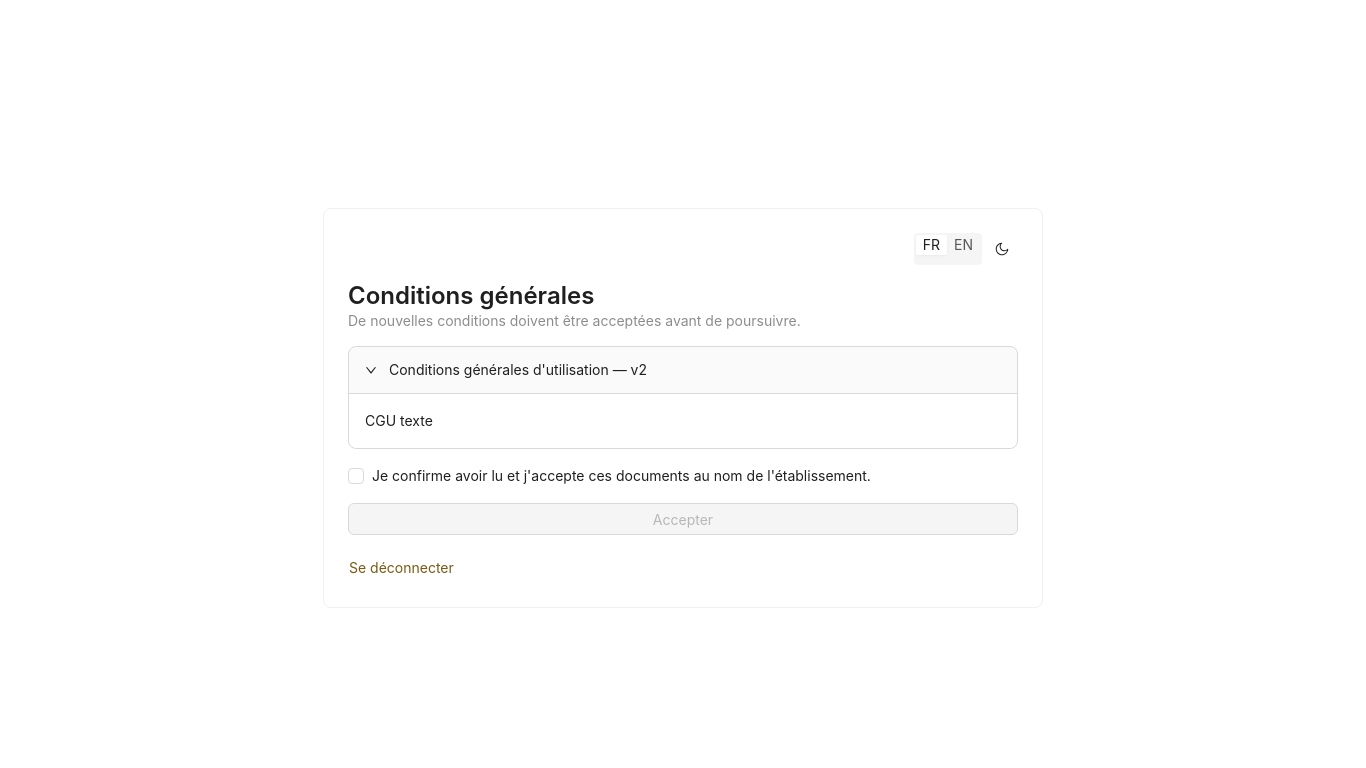
Test: route guards › redirects to /legal while the latest terms are pending, and lets the owner accept
Expected: the heading "Conditions générales" is shown, [348,281,594,310]
Expected: the button "Accepter" is disabled, [348,503,1018,535]
What coordinates should you click on to do the following:
click the checkbox
I would click on:
 (609, 476)
Its box is [348,467,871,484].
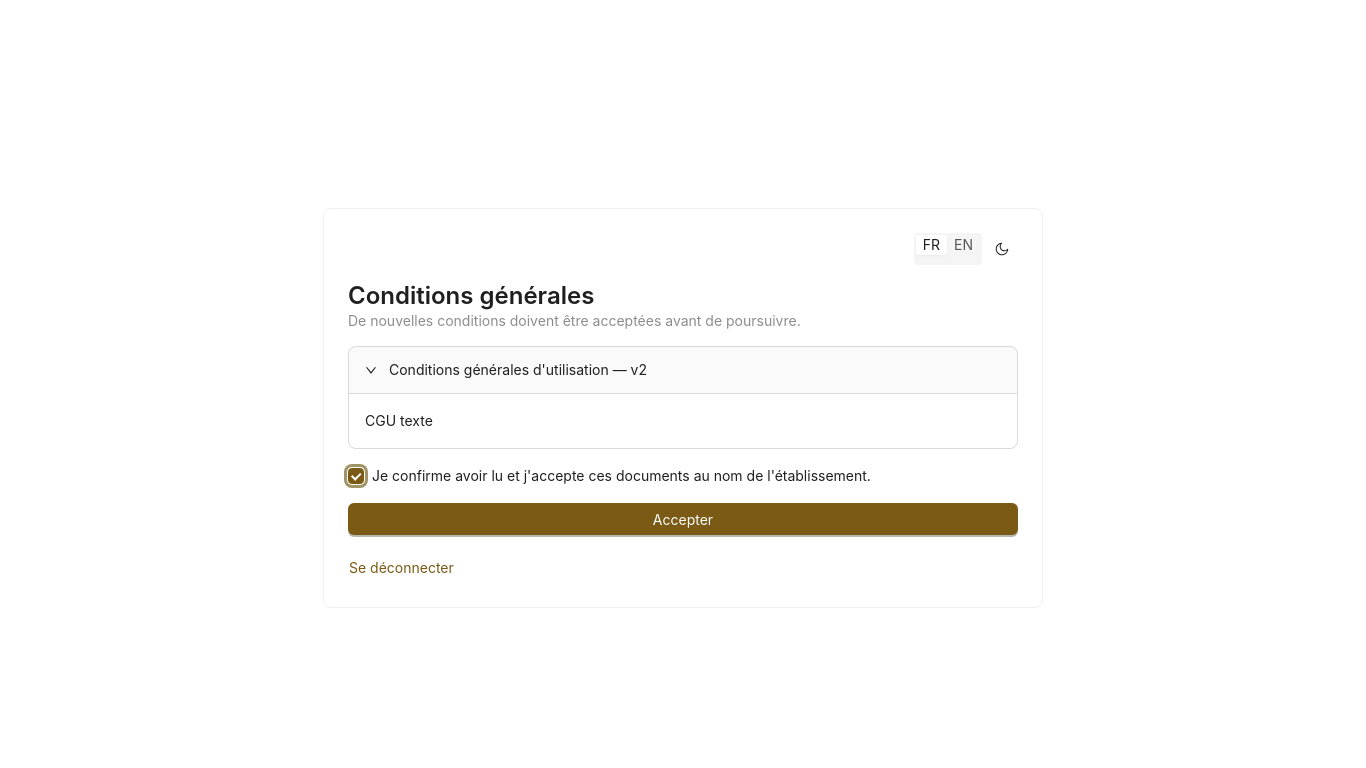
What coordinates should you click on to do the following:
click the button "Accepter"
I would click on:
 (683, 519)
Its box is [348,503,1018,535].
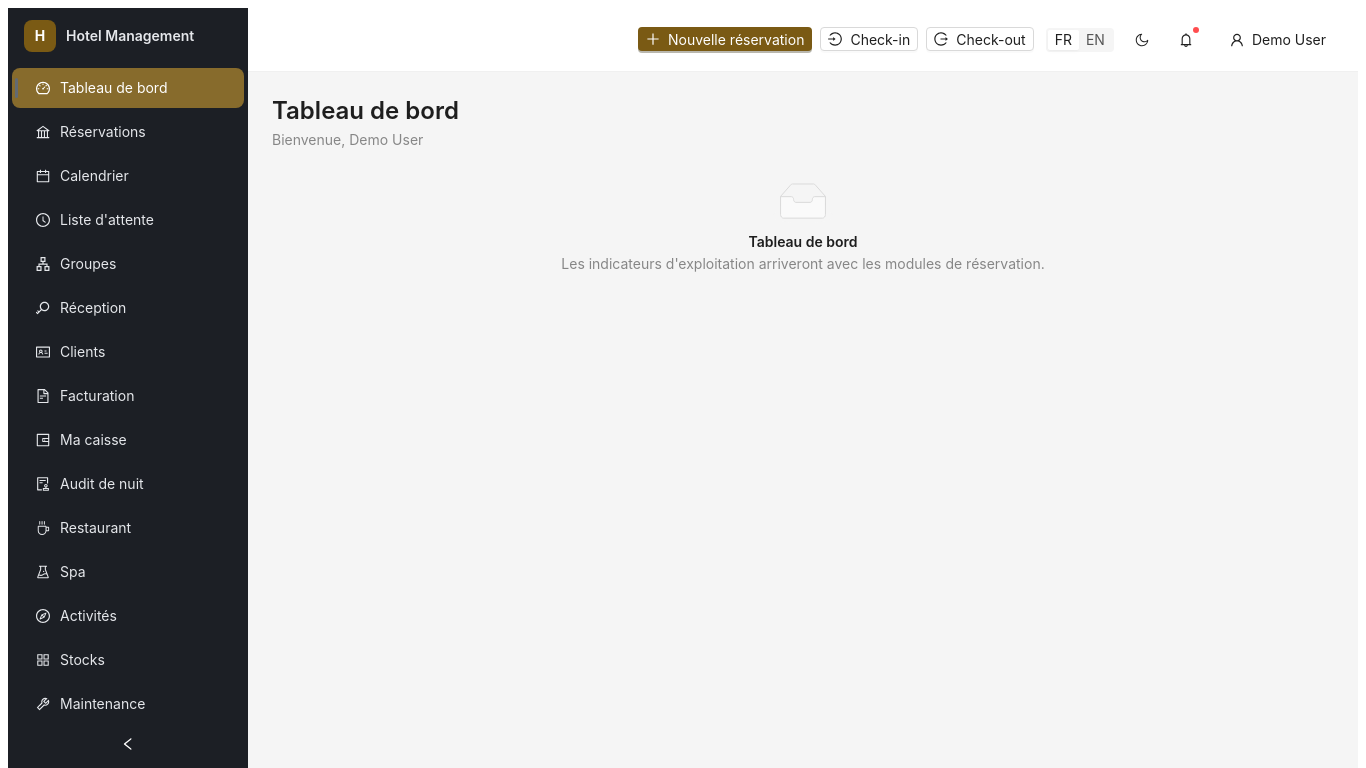
Expected: the heading "Tableau de bord" is shown, [272,96,459,125]
